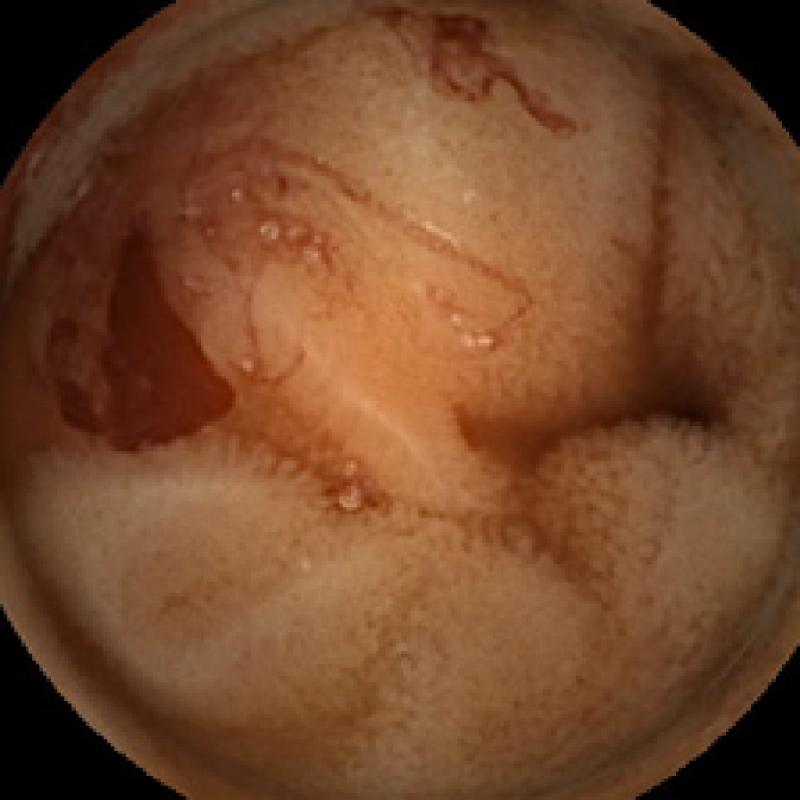bleeding: (44, 219, 232, 457), (393, 0, 582, 136)
